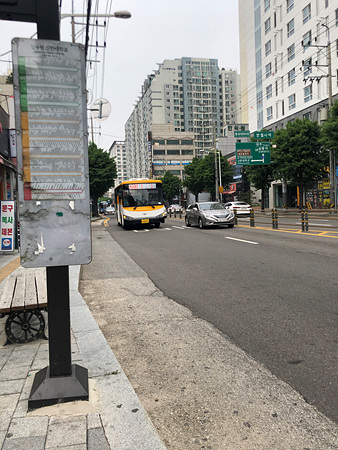bnum: (128, 184, 137, 188)
